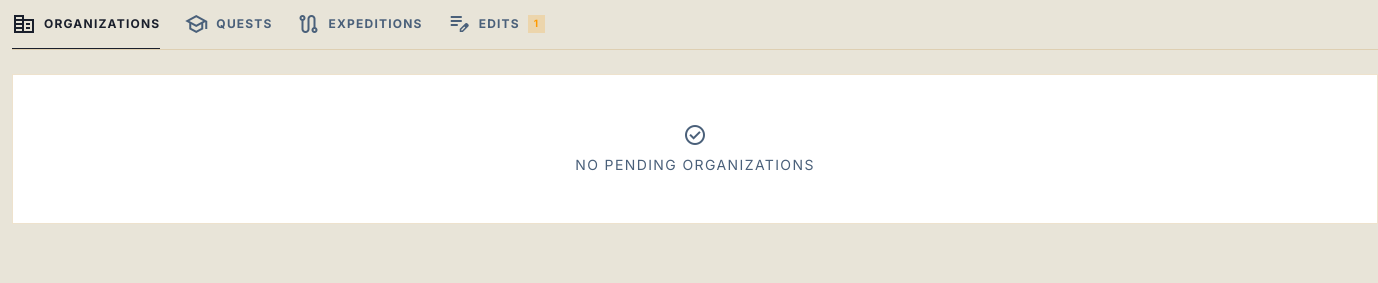
Test: Edits tab — draft_data quests › shows draft-edit quests in Edits tab, NOT Quests tab
// Quests tab should show "No pending quests"
Click the button "Quests". click: point(228, 31)
box: [184,12,272,50]
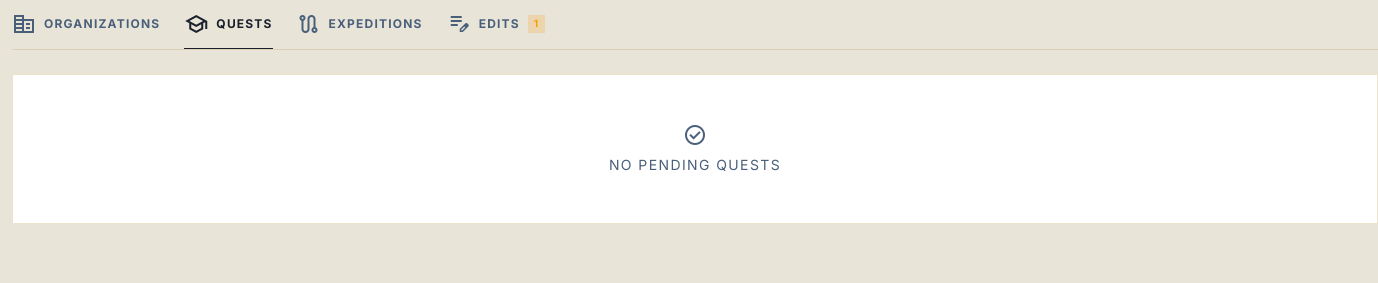
Check: the text "No pending quests" is shown, box [609,156,781,173]
// Edits tab should show the draft quest
Click the button "Edits 1". click: point(496, 31)
box: [447,12,545,50]
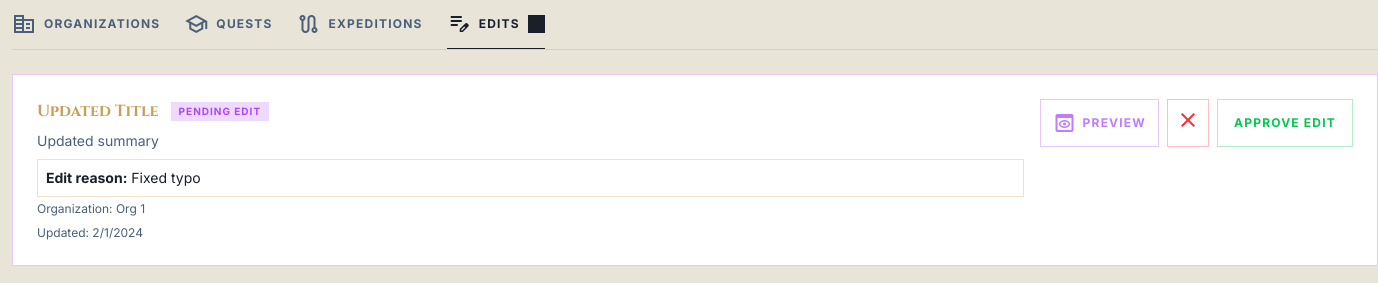
Check: the heading "Updated Title" is shown, box [37,99,159,123]
Check: the text "Pending Edit" is shown, box [171,102,269,120]
